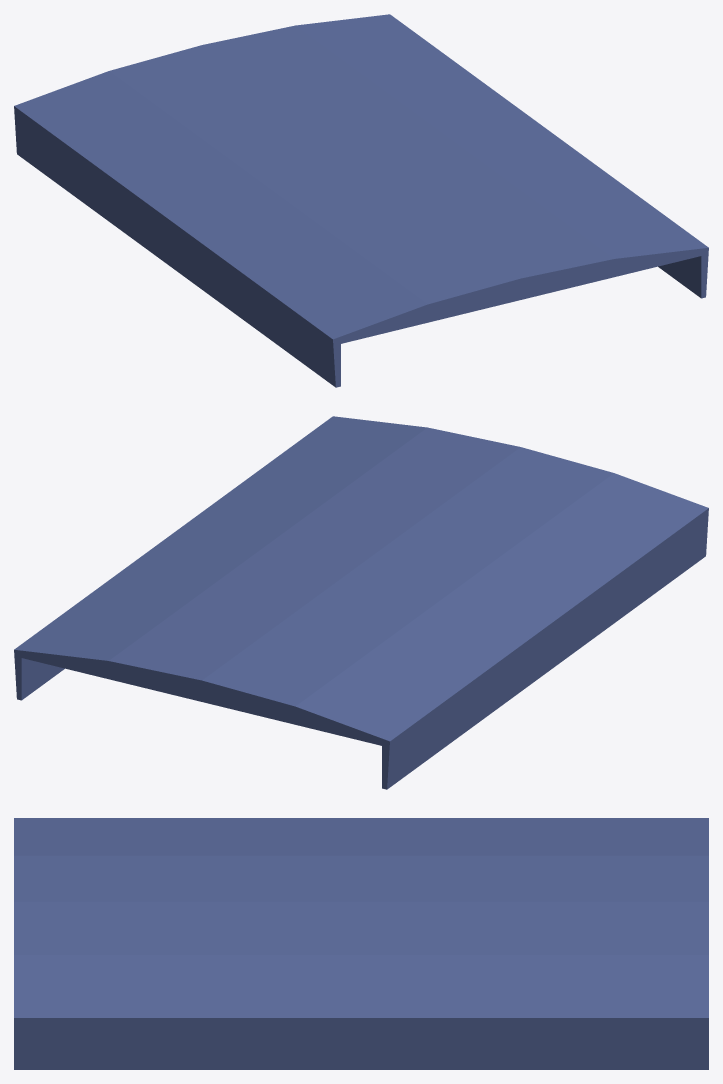
File: Itr_Bed_Single_Blanket_12.FBX
The picture shows the model from 3 angles, top to bottom: view 1: azimuth 30°, elevation 25°; view 2: azimuth 150°, elevation 25°; view 3: azimuth 270°, elevation 25°; orthographic projection. The views are drawn at different scales.
Parts seen in each view (by area): view 1: Itr_Bed_Single_Blanket_12; view 2: Itr_Bed_Single_Blanket_12; view 3: Itr_Bed_Single_Blanket_12.
Boxes of the visible parts, x1=… form: Itr_Bed_Single_Blanket_12: x1=14, y1=14, x2=708, y2=387; Itr_Bed_Single_Blanket_12: x1=14, y1=416, x2=708, y2=789; Itr_Bed_Single_Blanket_12: x1=14, y1=818, x2=708, y2=1069.
Size of the model in its own units: 44.15 by 7.19 by 64.86.
